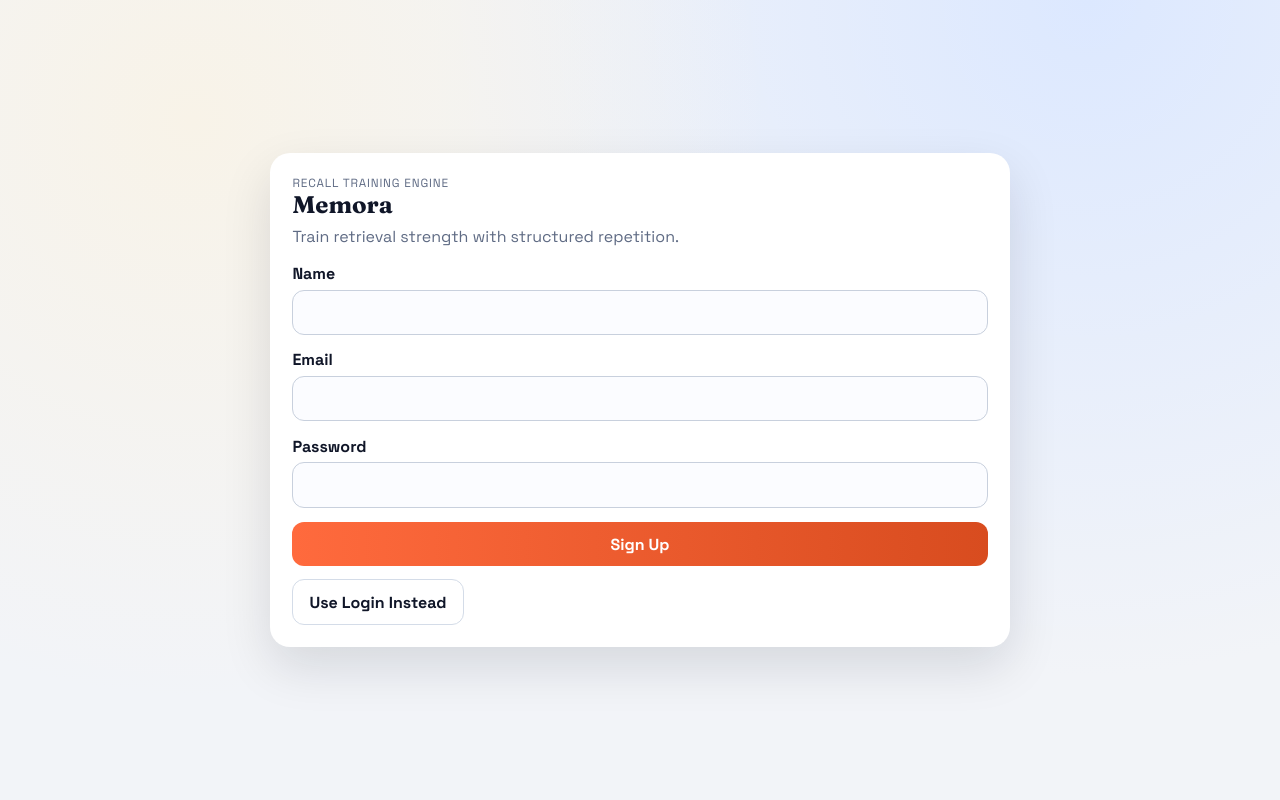
logs in and shows notes workspace
The width and height of the screenshot is (1280, 800).
Click the button "Use Login Instead".
click(378, 602)  # box [292, 579, 464, 625]
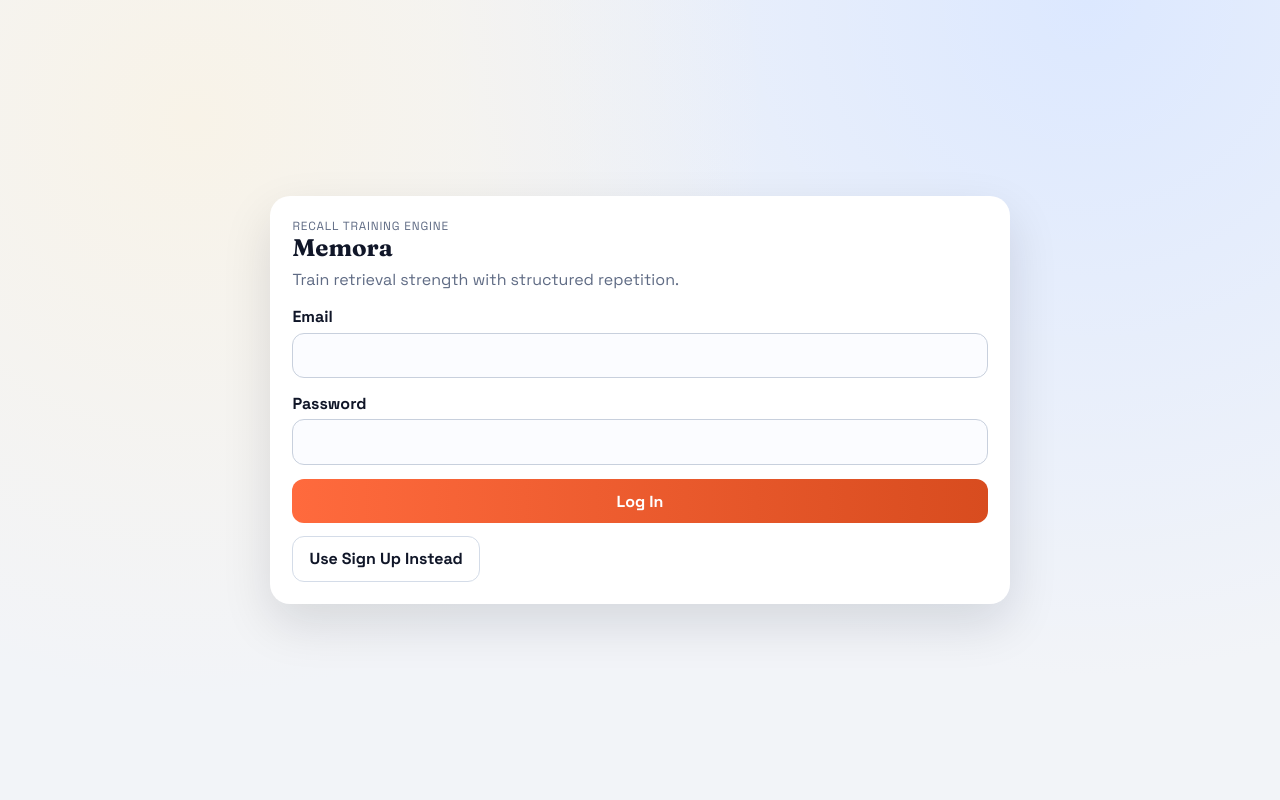
Type "ada@example.com" into the field labelled "Email".
click(640, 356); type("ada@example.com")  # box [292, 333, 988, 378]
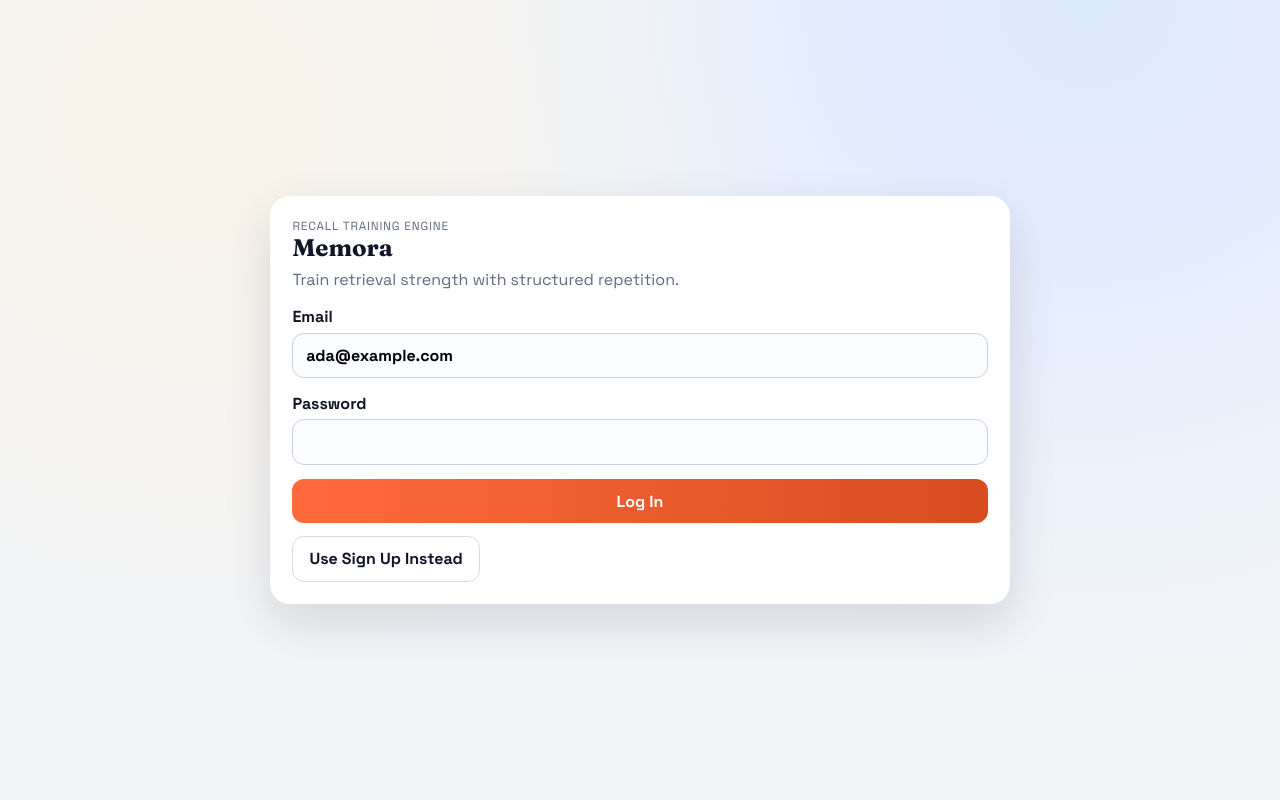
Type "strong-password-123" into the password field labelled "Password".
click(640, 442); type("strong-password-123")  # box [292, 419, 988, 465]
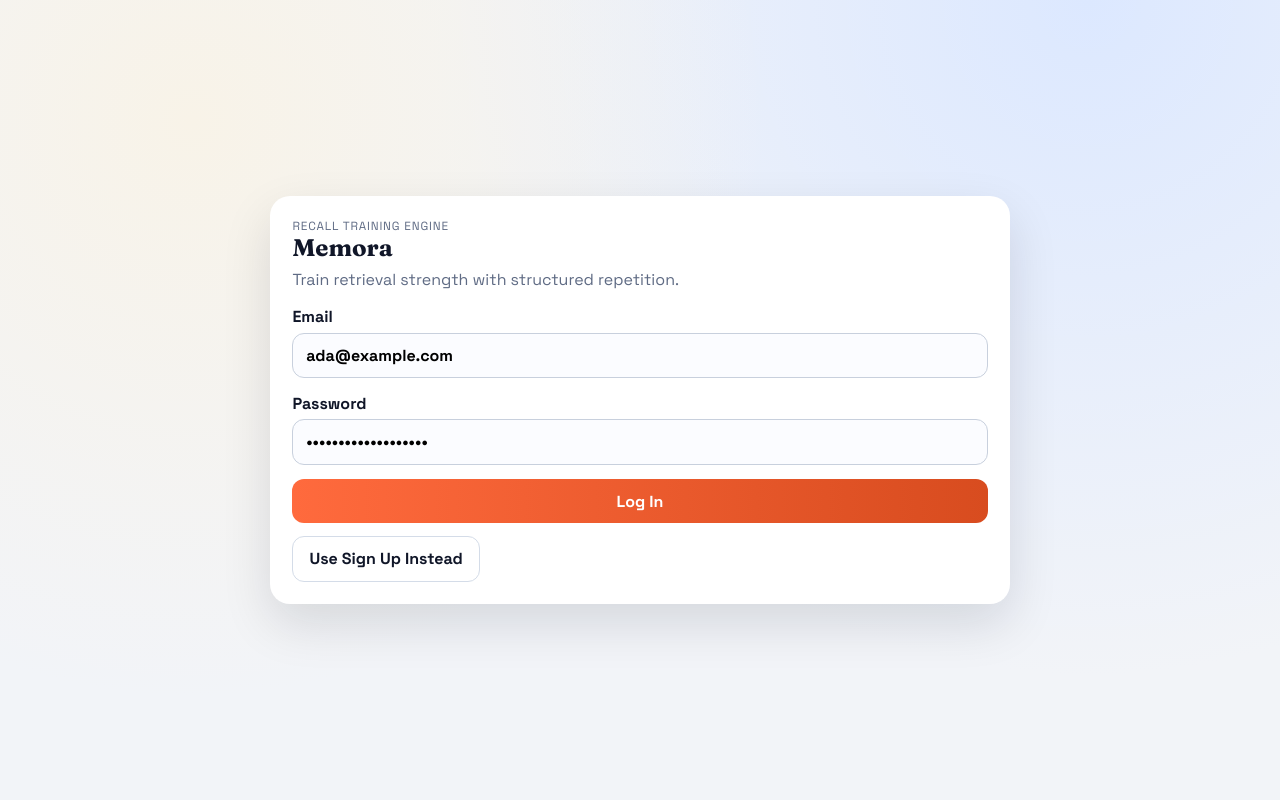
Click the button "Log In".
click(640, 501)  # box [292, 479, 988, 523]
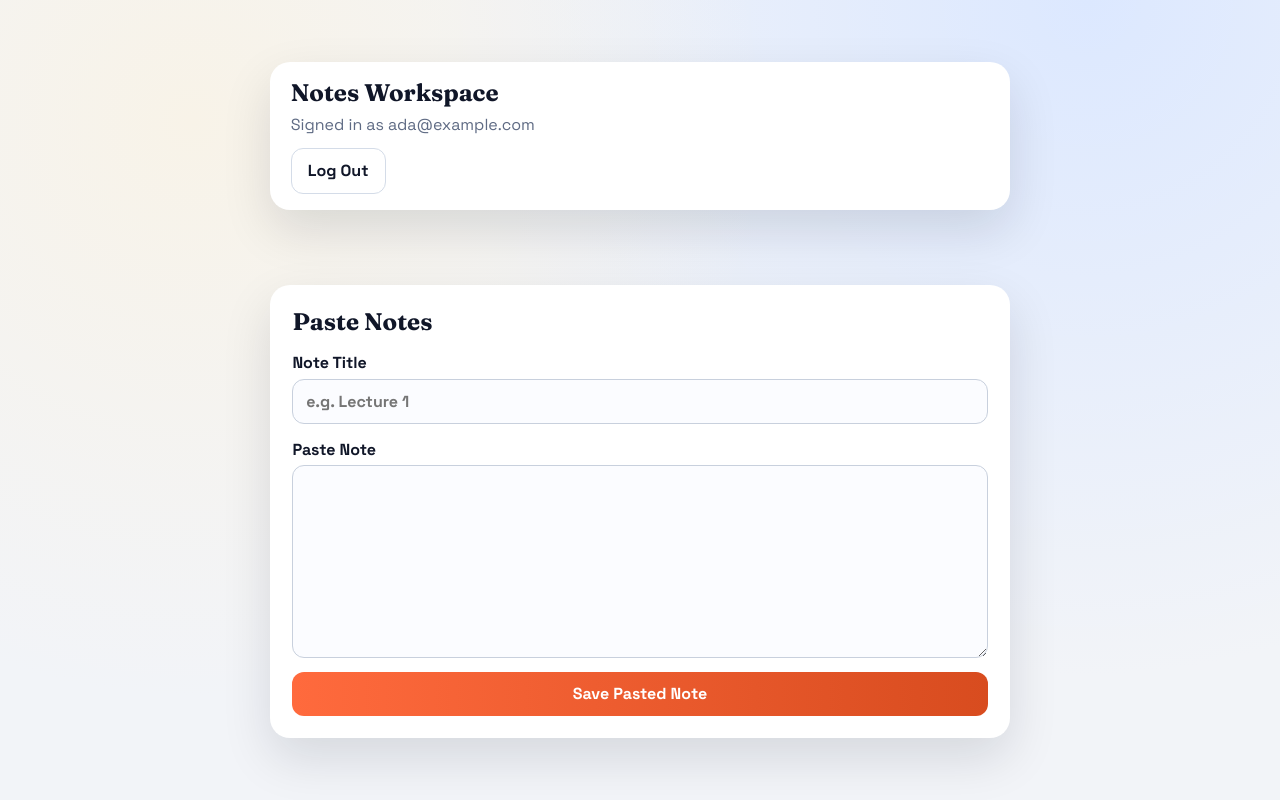
Expected: the heading "Notes Workspace" is shown, [291, 78, 499, 107]
